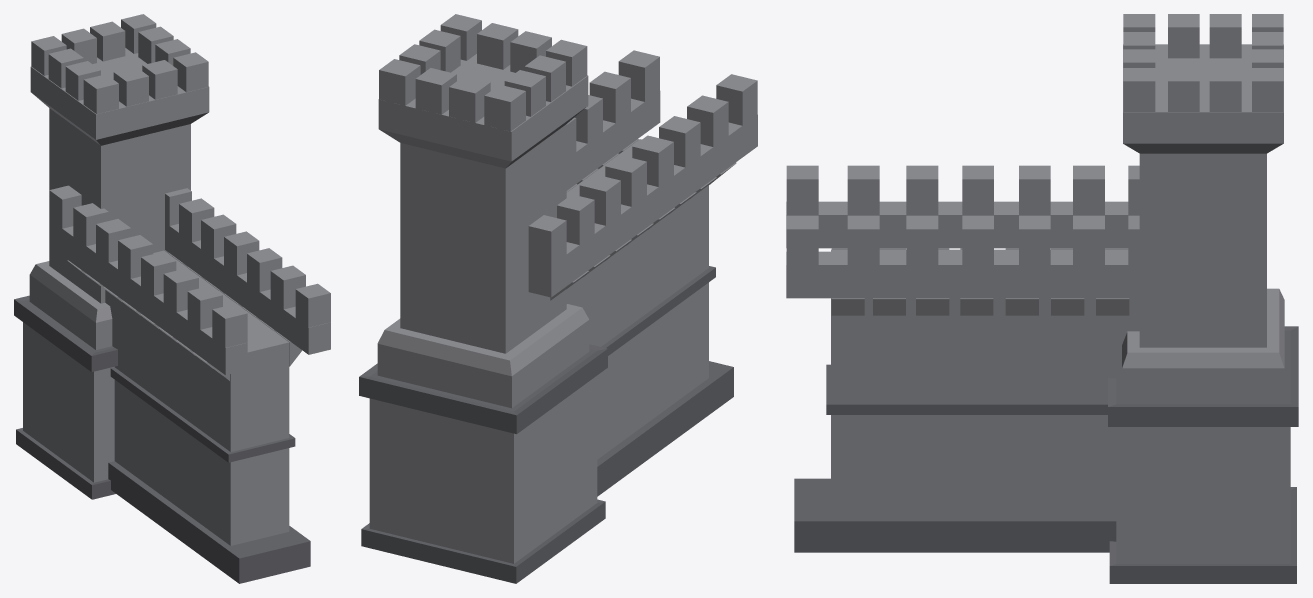
The model's file is model_wallWithTowerRight.fbx.
The picture shows the model from 3 angles, left to right: view 1: azimuth 30°, elevation 25°; view 2: azimuth 150°, elevation 25°; view 3: azimuth 270°, elevation 25°; orthographic projection. The views are drawn at different scales.
Visible parts, largest first — view 1: polySurface147; view 2: polySurface147; view 3: polySurface147.
Part boxes in pixels (left/top/right/bottom): polySurface147: left=14, top=14, right=330, bottom=583; polySurface147: left=359, top=14, right=757, bottom=583; polySurface147: left=786, top=14, right=1298, bottom=583.
Bounding box in the file's own units: 4.5 × 12.94 × 12.1.
